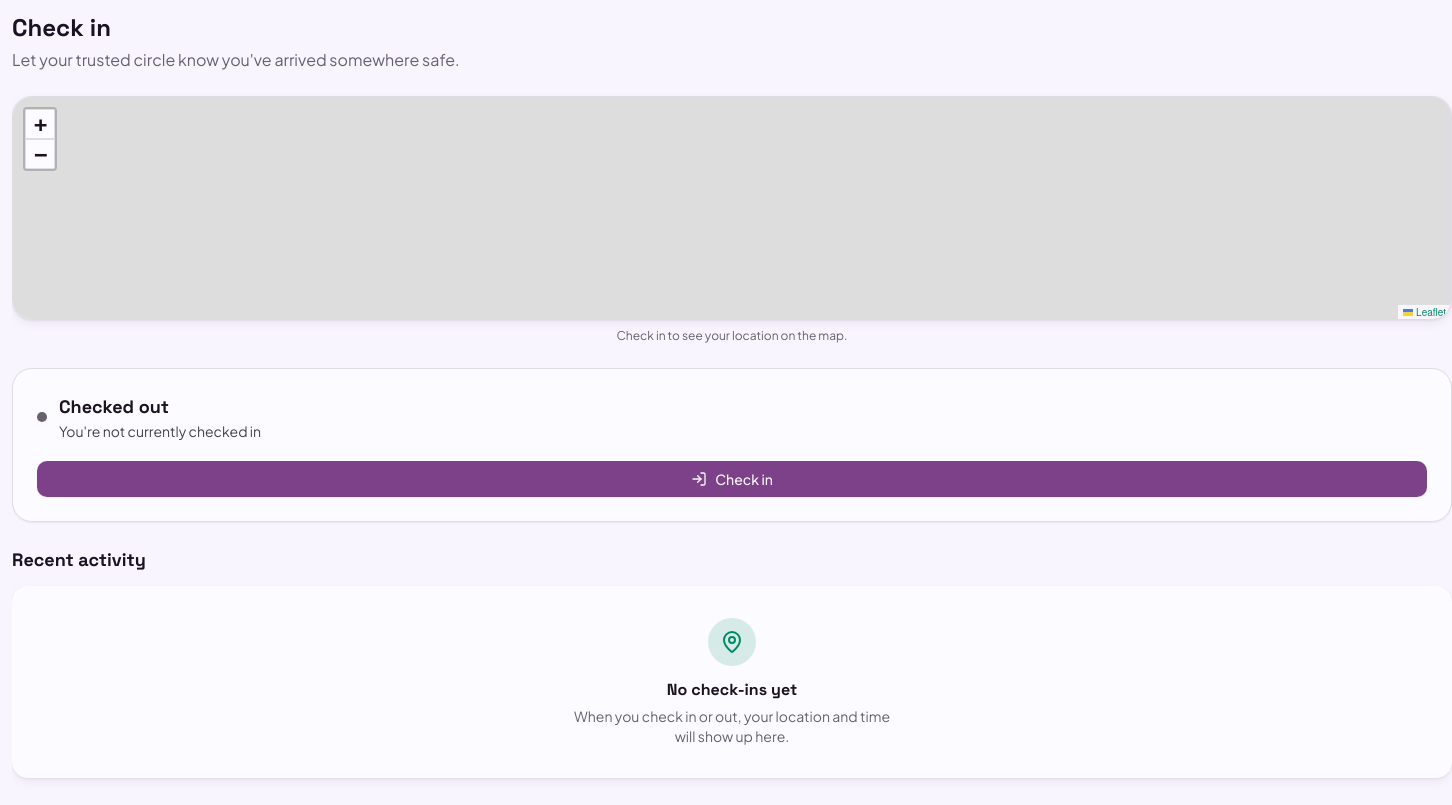
Test: CheckInPage › records the current location and time on check-in and shows the active state
Check: the text "Checked out" is shown, box [59, 395, 169, 418]
Click the button "Check in" at (732, 479), box [37, 461, 1427, 497]
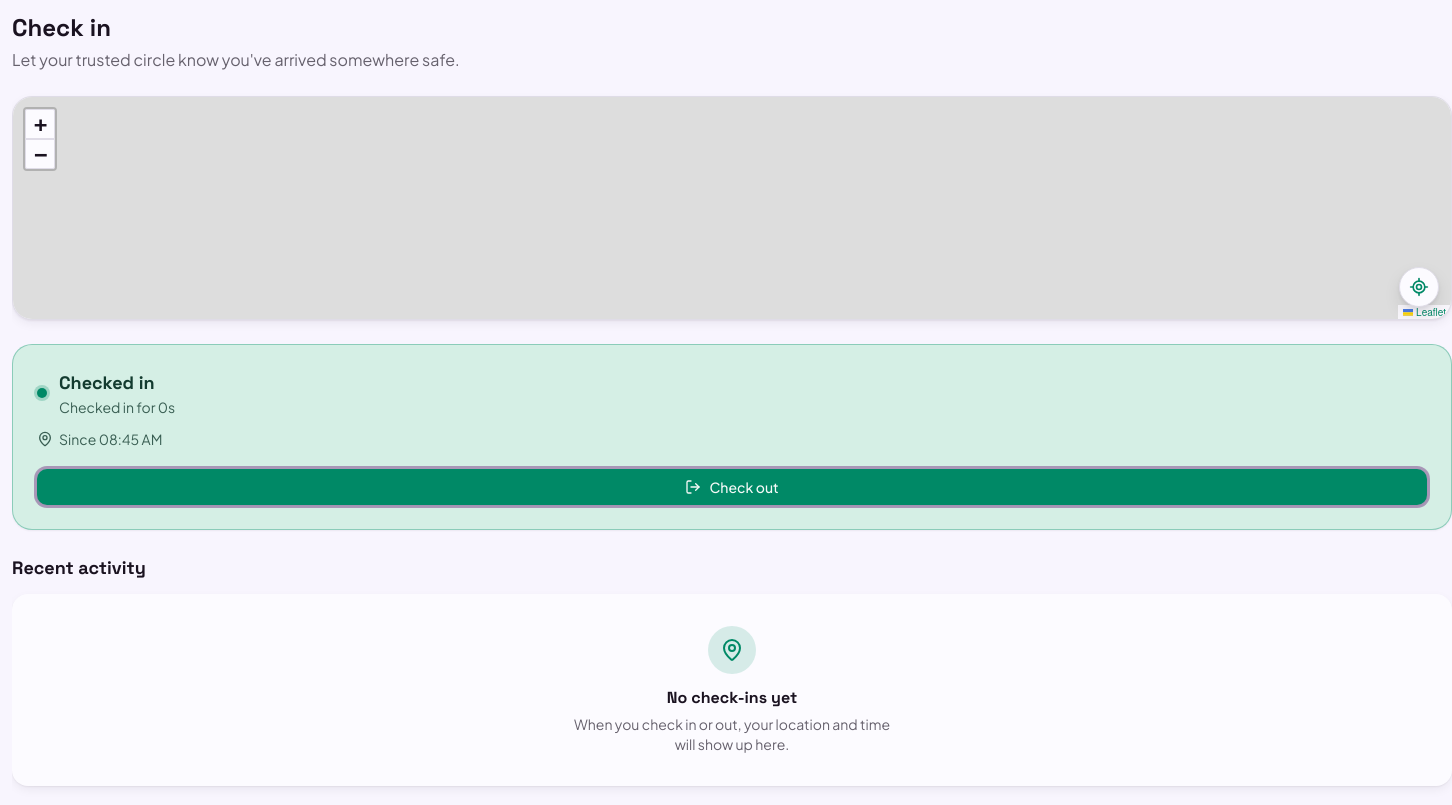
Check: the text "Checked in" is shown, box [59, 371, 154, 394]
Check: the text "Checked in for 0s" is shown, box [59, 398, 175, 416]
Check: the button "Check out" is shown, box [37, 469, 1427, 505]
